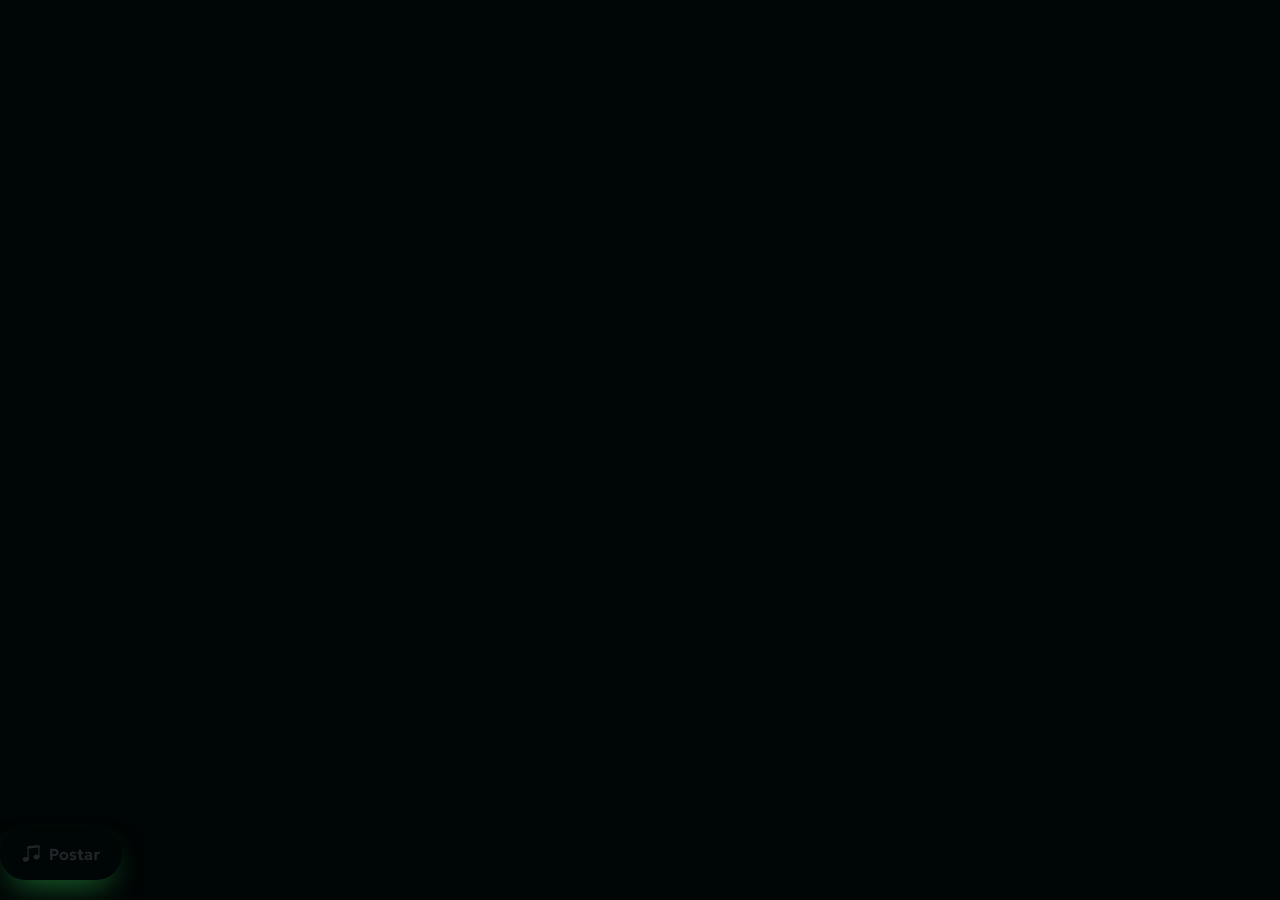
Test: CreatePost › mostra que está buscando
Click the button with aria-label "Criar post".
click(61, 854)  # box [0,828,122,880]
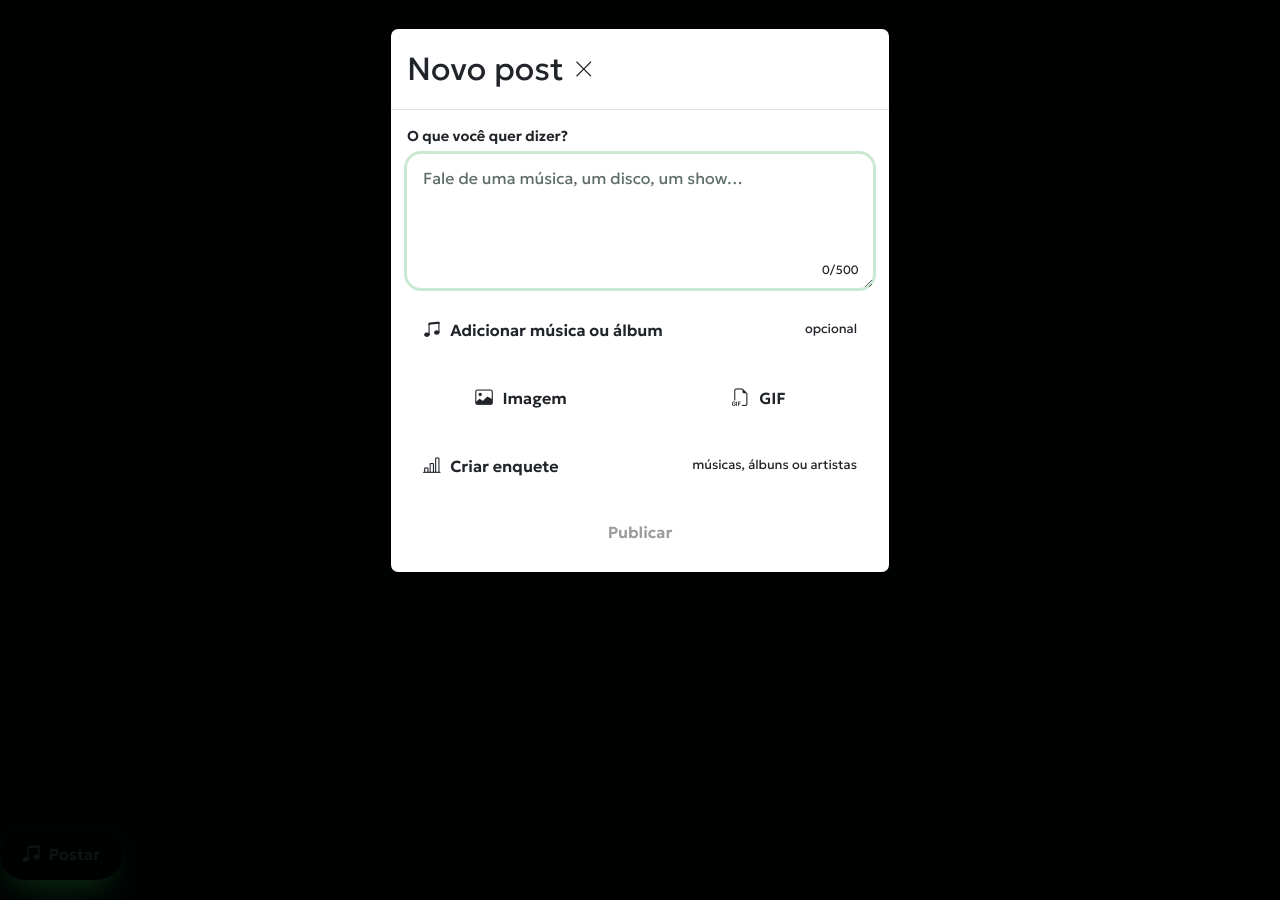
Click the button "Adicionar música ou álbum opcional".
click(640, 330)  # box [407,304,873,356]
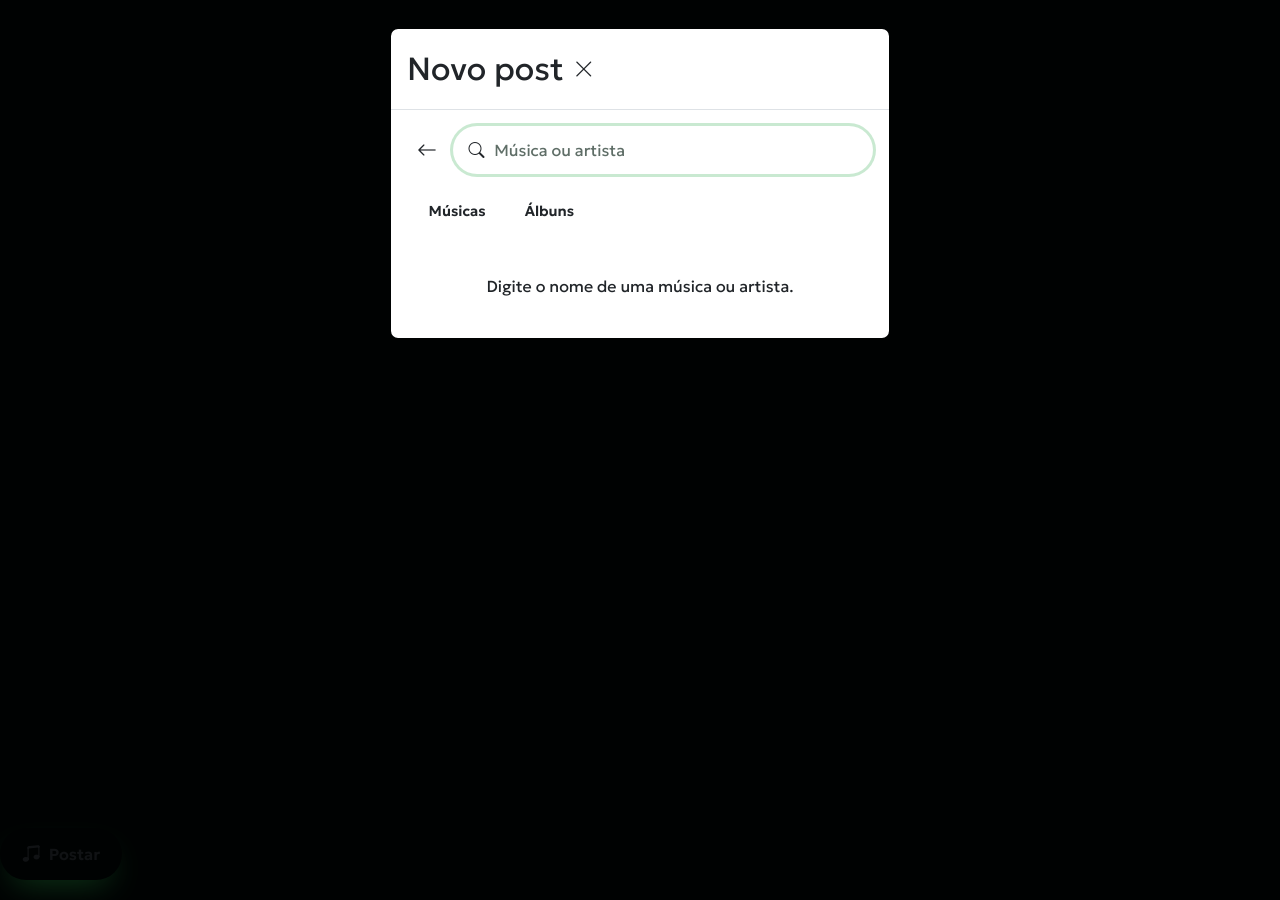
Type "help" into the search field named "Buscar música".
click(663, 150); type("help")  # box [453,126,873,174]
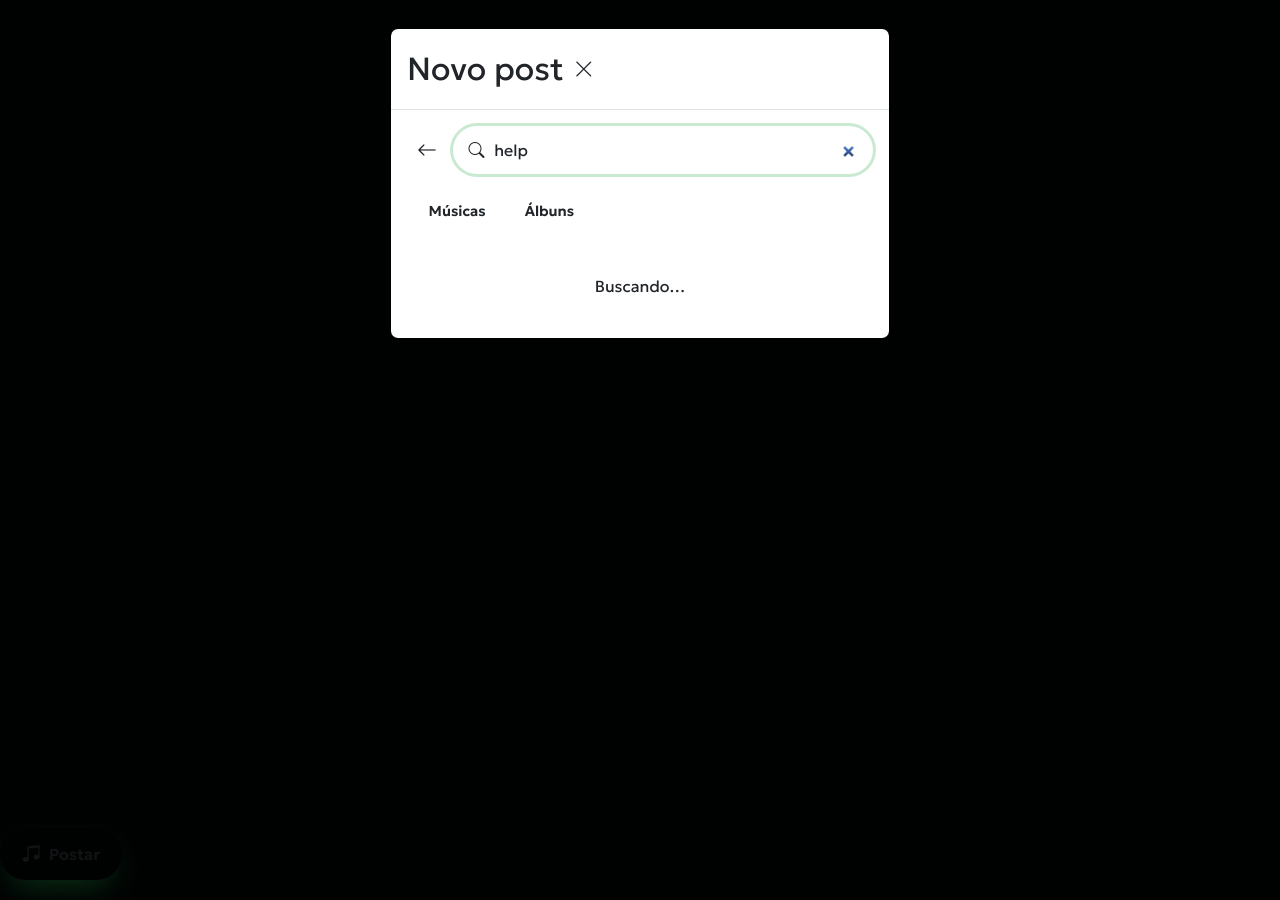
expect the message reads "Buscando…": met, box [595,276,685,296]
